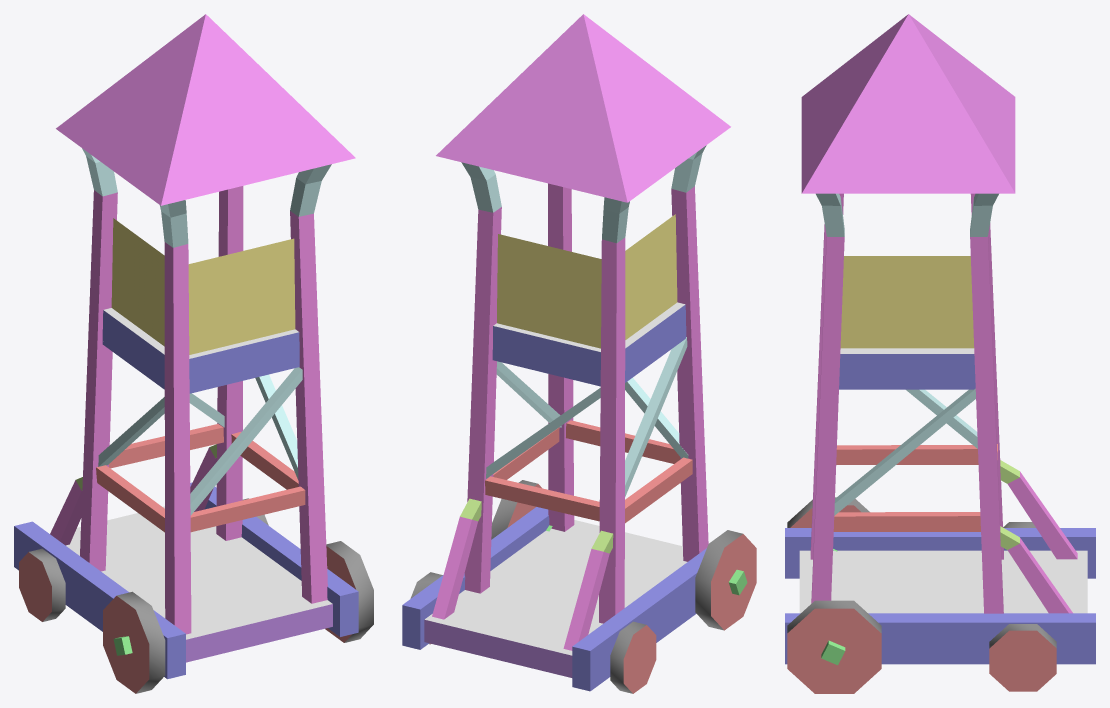
The model's file is Old_War_s__WatchTower01.gltf.
The picture shows the model from 3 angles, left to right: view 1: azimuth 30°, elevation 25°; view 2: azimuth 150°, elevation 25°; view 3: azimuth 270°, elevation 25°; orthographic projection. The views are drawn at different scales.
Visible parts, largest first — view 1: WatchTower01; view 2: WatchTower01; view 3: WatchTower01.
Part boxes in pixels (x1,y1,x2,y2): WatchTower01: (14,14,373,693); WatchTower01: (402,14,756,693); WatchTower01: (785,14,1095,693).
Bounding box in the file's own units: 0.98 × 2.42 × 1.09.
